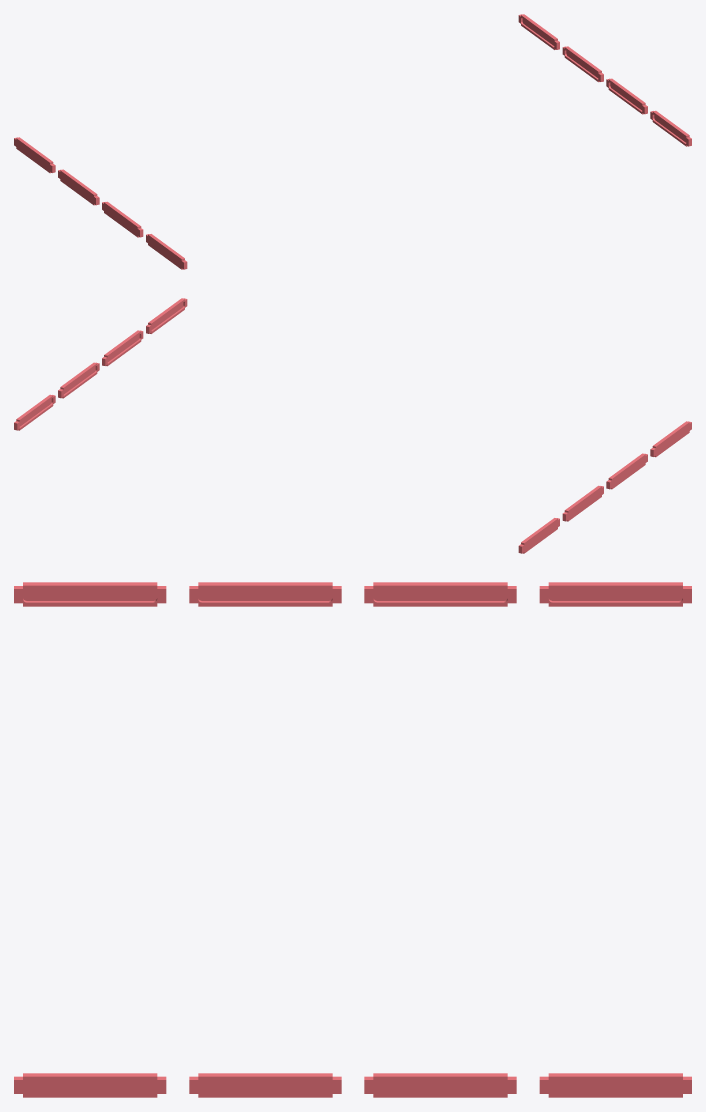
The model's file is BATTERY CRATE STACK V2__BATTERY CRATE L4__BATTERY MODULE V2 CLAMPS__SPINE ASM FRONT STOP__FRONT BAR.glb.
3 views of the same model, one above another, from view 1: azimuth 30°, elevation 25°; view 2: azimuth 150°, elevation 25°; view 3: azimuth 270°, elevation 25° (orthographic). The views are drawn at different scales.
Parts seen in each view (by area): view 1: FRONT BAR 4, FRONT BAR 6, FRONT BAR 3, FRONT BAR 5, FRONT BAR 1, FRONT BAR 7, FRONT BAR 2, FRONT BAR 8; view 2: FRONT BAR 3, FRONT BAR 5, FRONT BAR 4, FRONT BAR 6, FRONT BAR 2, FRONT BAR 8, FRONT BAR 1, FRONT BAR 7; view 3: FRONT BAR 3, FRONT BAR 4, FRONT BAR 5, FRONT BAR 6, FRONT BAR 1, FRONT BAR 2, FRONT BAR 7, FRONT BAR 8.
Boxes of the visible parts, <box> form: FRONT BAR 4: <box>606,78,647,114</box>; FRONT BAR 6: <box>58,169,99,205</box>; FRONT BAR 3: <box>102,201,143,237</box>; FRONT BAR 5: <box>562,46,603,82</box>; FRONT BAR 1: <box>650,110,691,146</box>; FRONT BAR 7: <box>14,137,55,173</box>; FRONT BAR 2: <box>146,234,187,269</box>; FRONT BAR 8: <box>518,14,559,49</box>; FRONT BAR 3: <box>606,453,647,489</box>; FRONT BAR 5: <box>58,362,99,398</box>; FRONT BAR 4: <box>102,330,143,366</box>; FRONT BAR 6: <box>562,485,603,521</box>; FRONT BAR 2: <box>650,421,691,457</box>; FRONT BAR 8: <box>14,394,55,430</box>; FRONT BAR 1: <box>146,298,187,333</box>; FRONT BAR 7: <box>518,518,559,553</box>; FRONT BAR 3: <box>189,582,341,606</box>; FRONT BAR 4: <box>189,1073,341,1097</box>; FRONT BAR 5: <box>364,1073,516,1097</box>; FRONT BAR 6: <box>364,582,516,606</box>; FRONT BAR 1: <box>14,1073,166,1097</box>; FRONT BAR 2: <box>14,582,166,606</box>; FRONT BAR 7: <box>539,582,691,606</box>; FRONT BAR 8: <box>539,1073,691,1097</box>.
Bounding box in the file's own units: 0.9577 × 0.0191 × 0.5552.
